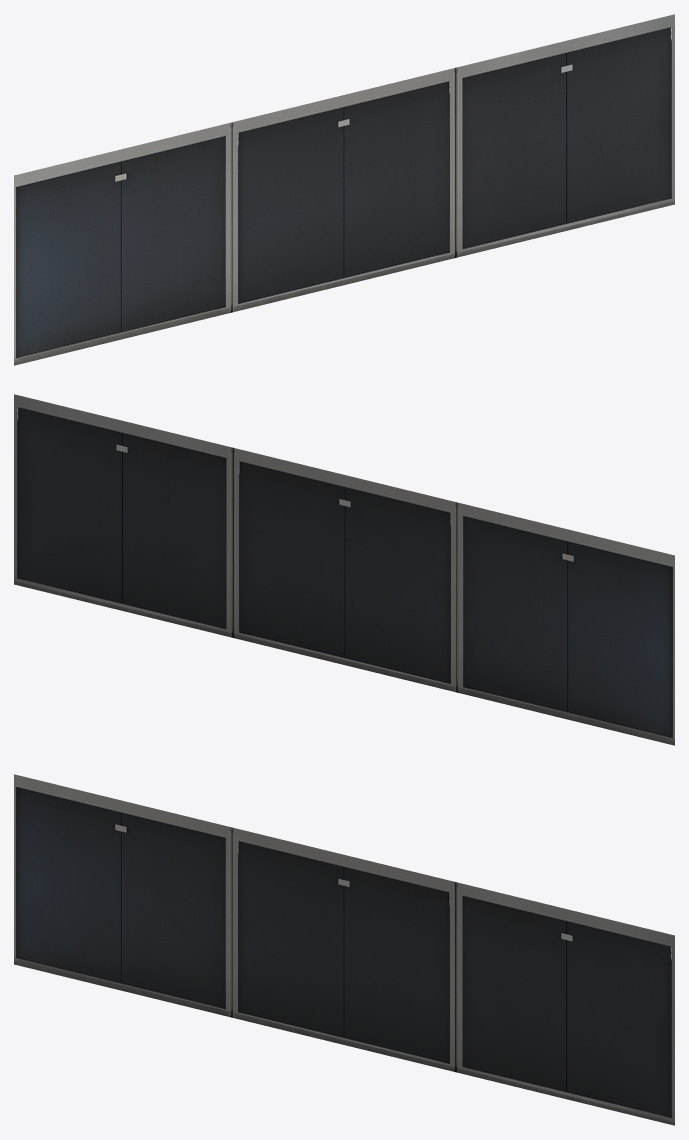
The model's file is wifi_rental_shelf_1_m_shelf02_0_lev1.glb.
3 renders of one model, top to bottom at view 1: azimuth 30°, elevation 25°; view 2: azimuth 150°, elevation 25°; view 3: azimuth 330°, elevation 25°, orthographic.
Parts seen in each view (by area): view 1: wifi_rental_shelf_1_m_shelf02_0_lev1; view 2: wifi_rental_shelf_1_m_shelf02_0_lev1; view 3: wifi_rental_shelf_1_m_shelf02_0_lev1.
Boxes of the visible parts, x1,y1,x2,y2 form: wifi_rental_shelf_1_m_shelf02_0_lev1: (14,14,674,365); wifi_rental_shelf_1_m_shelf02_0_lev1: (14,394,674,745); wifi_rental_shelf_1_m_shelf02_0_lev1: (14,774,674,1125).
Bounding box in the file's own units: 170 × 46.68 × 0.
1 material, 1 textured.
